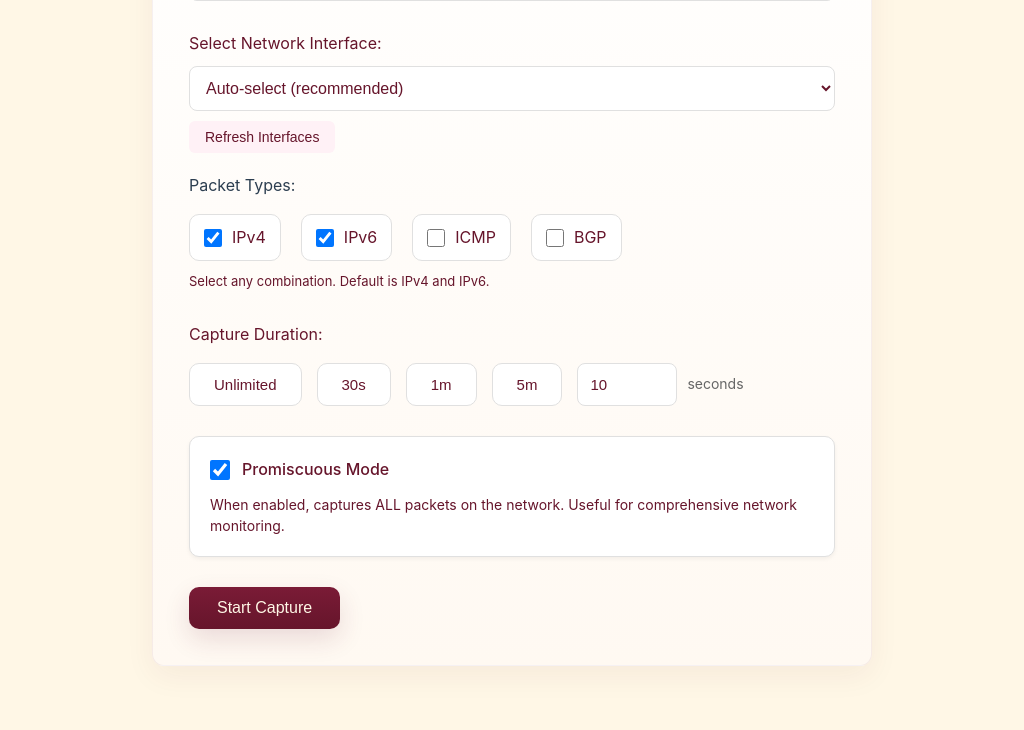
Test: Home Component › handles network error gracefully
(page scrolled)
Click the button "Start Capture".
click(265, 608)  # box [189,587,340,629]
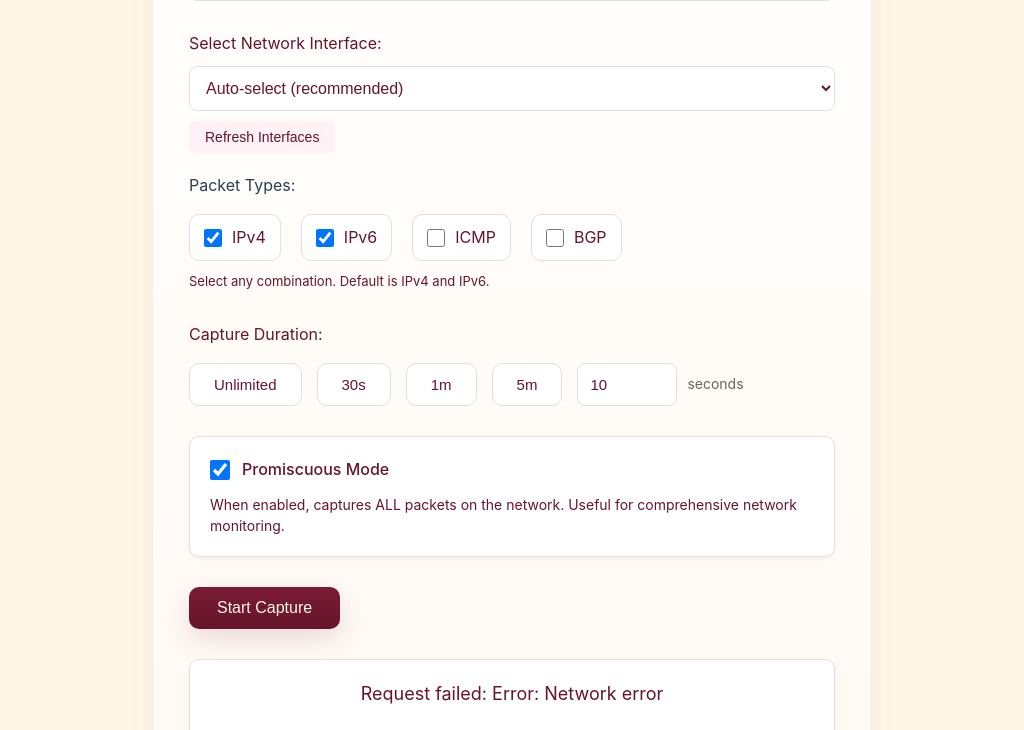
Result: the text "Request failed: Error: Network error" is shown at [361,683,663,704]
